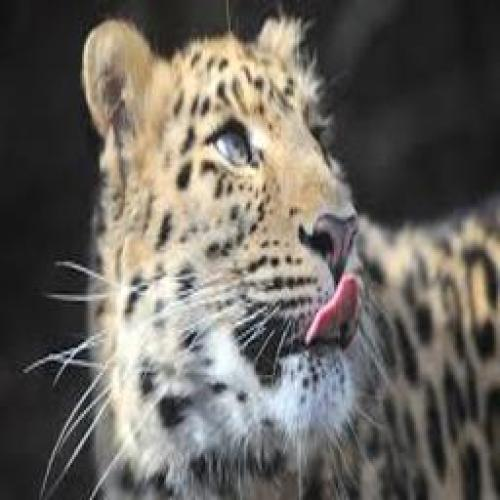amur_leopard-endangered: (78, 13, 406, 481)
